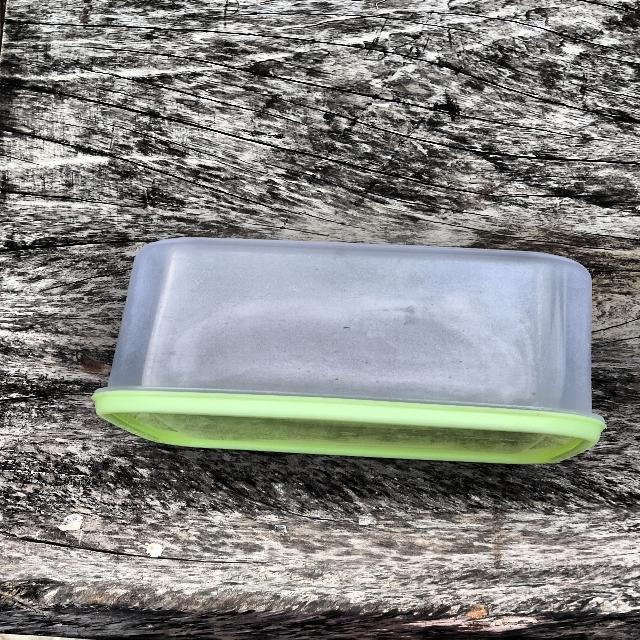plastic container: (71, 216, 615, 483)
